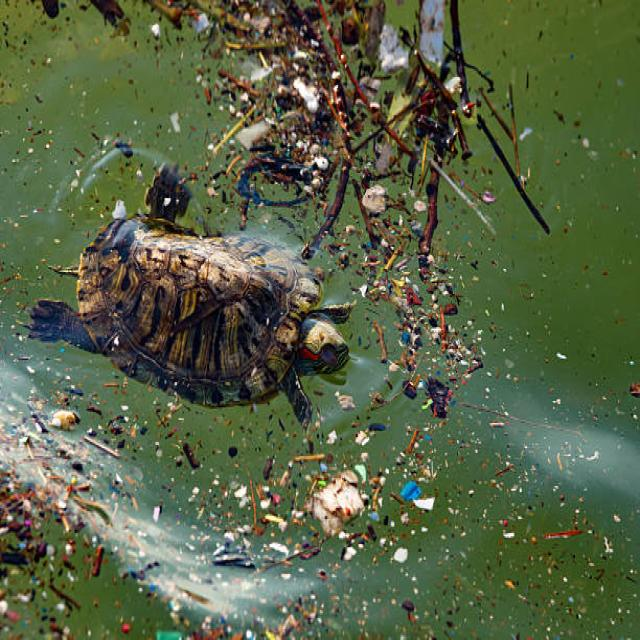garbage: (0, 440, 436, 640), (208, 3, 518, 211)
